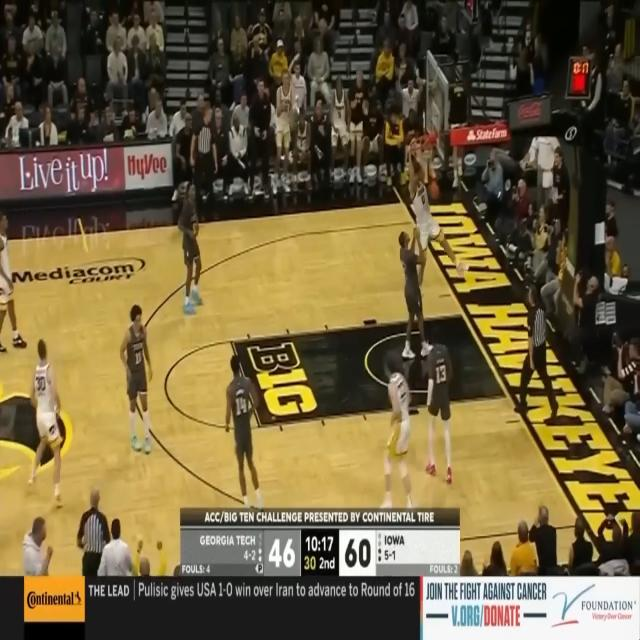Ball: (427, 182, 440, 202)
Clock: (566, 57, 592, 98)
Hoop: (411, 133, 436, 173)
Overlay: (0, 576, 640, 640), (180, 507, 460, 577)
Player: (408, 132, 468, 294), (26, 339, 66, 507), (224, 349, 266, 508), (379, 353, 414, 505), (119, 301, 154, 453), (398, 226, 434, 363), (424, 326, 454, 483), (0, 212, 28, 354), (177, 182, 204, 316)
Ref: (510, 284, 559, 418), (76, 485, 112, 631), (188, 103, 219, 221)
Scoreboard: (180, 531, 460, 577)
